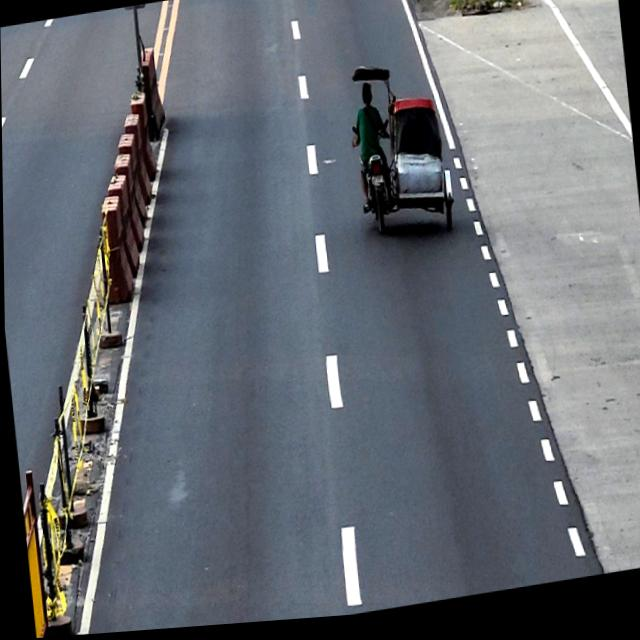License-Plate: (370, 179, 383, 191)
Tricycle: (344, 58, 456, 251)
